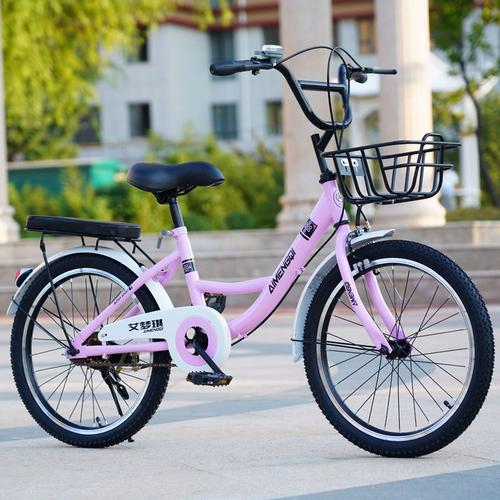单车: (6, 28, 496, 475)
